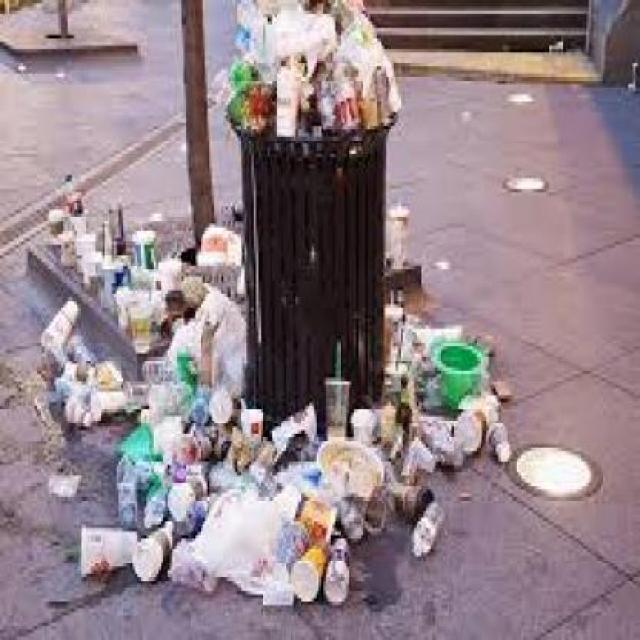garbage: (71, 351, 492, 596), (41, 181, 244, 436), (224, 0, 397, 132)
